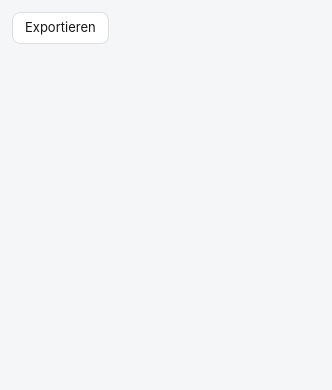
Test: ReportExportMenu › Markdown: ruft exportReport mit der gewählten Fassung auf, Dateiname wie im Bestand
The image size is (332, 390).
Press ArrowDown in the button with test id "report-export-trigger", box [12,12,109,44]
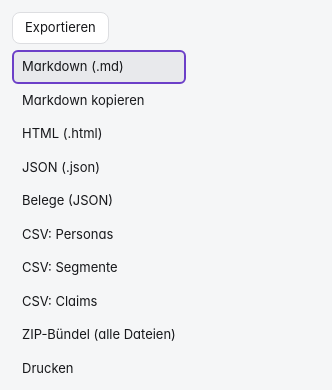
Click the menu item "Markdown (.md)" at (99, 67), box [12,50,186,84]
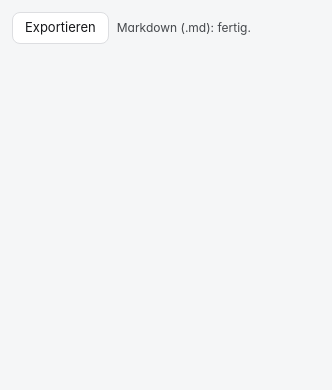
Expected: the message with test id "report-export-status" shows "fertig", [117,20,251,35]
